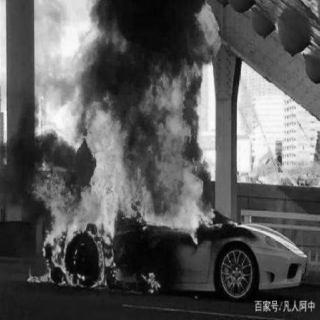Fire: (14, 9, 234, 299)
